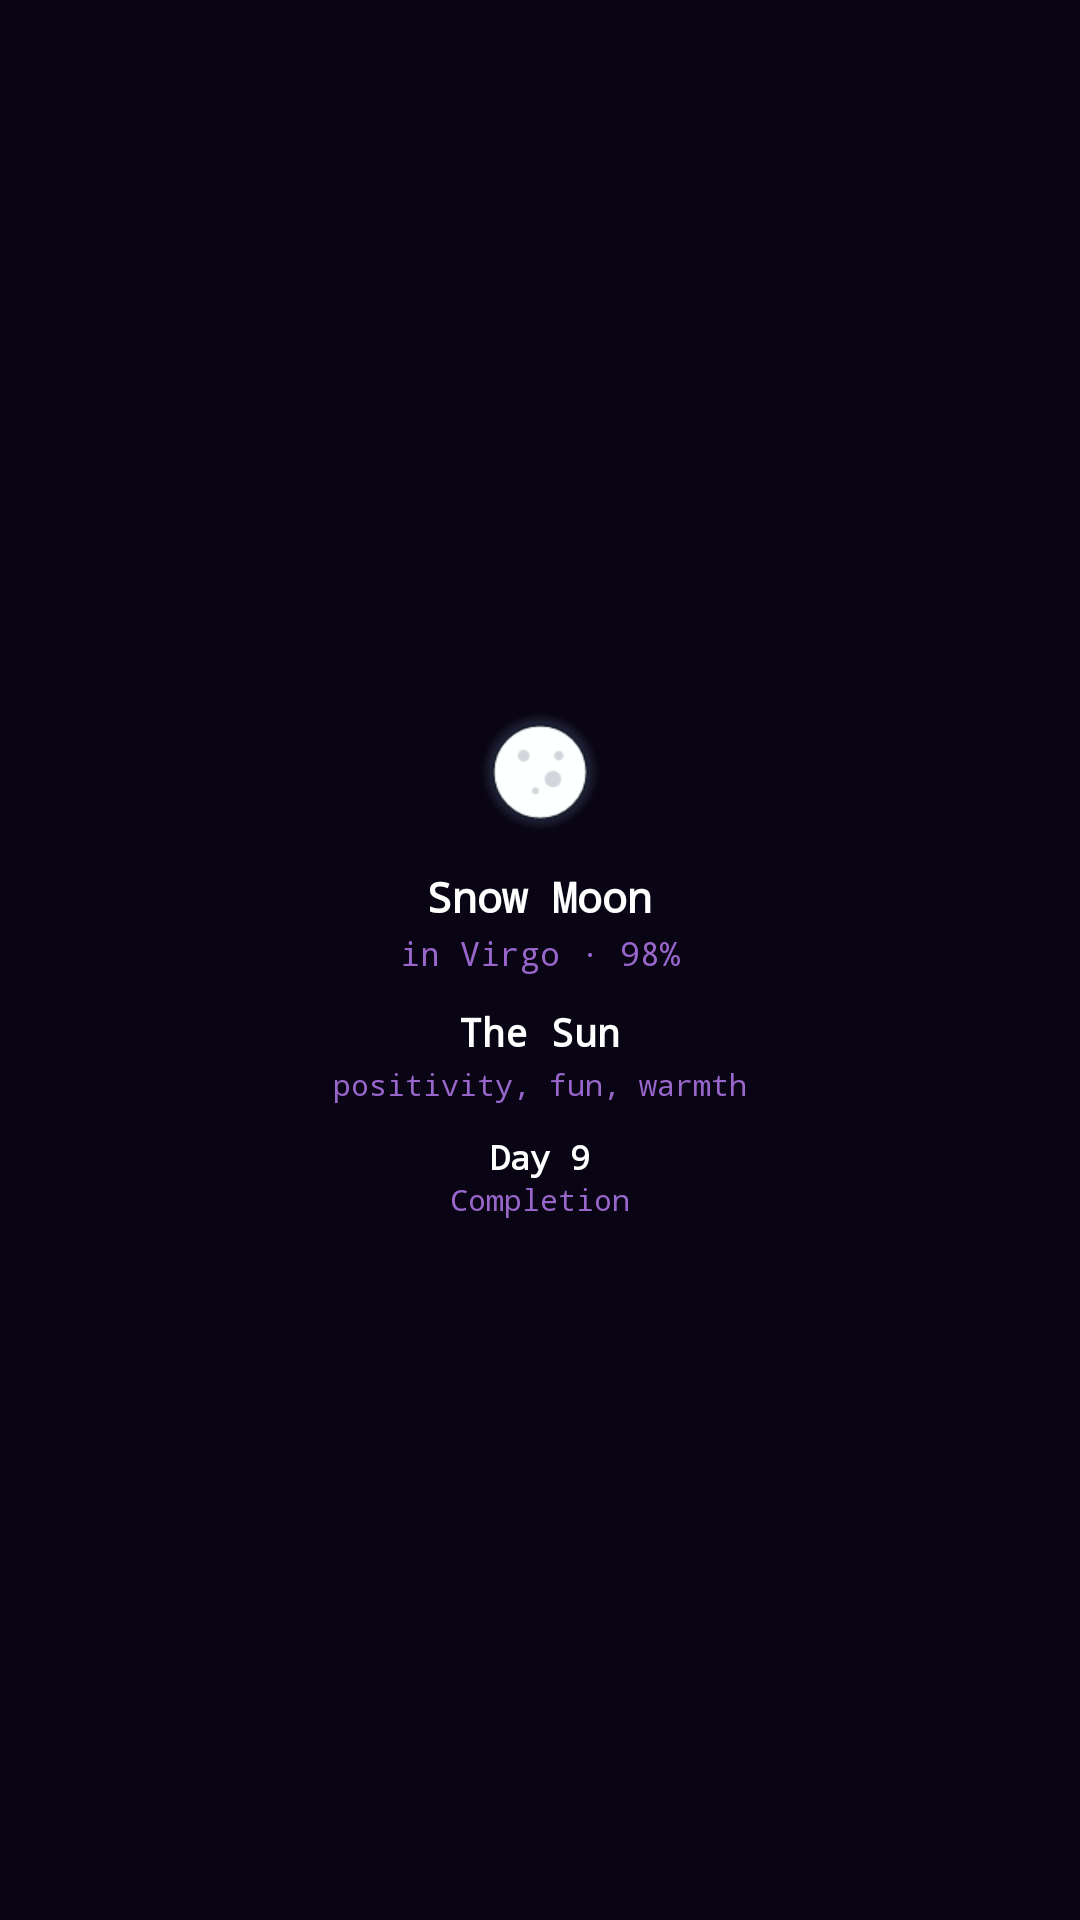

Where icons sit on this 1080px x 1920px app screen, as (x1, y1, x2, y2):
moon full: (489, 721, 591, 822)
